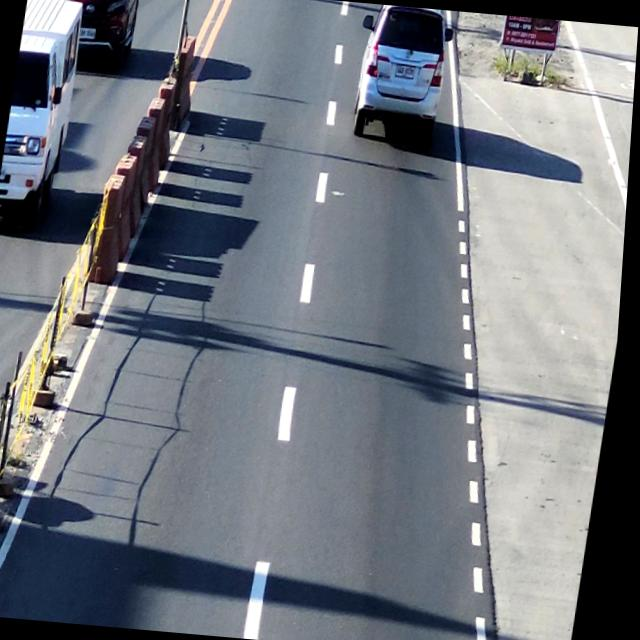Car: (353, 3, 450, 142)
License-Plate: (394, 63, 416, 81)
